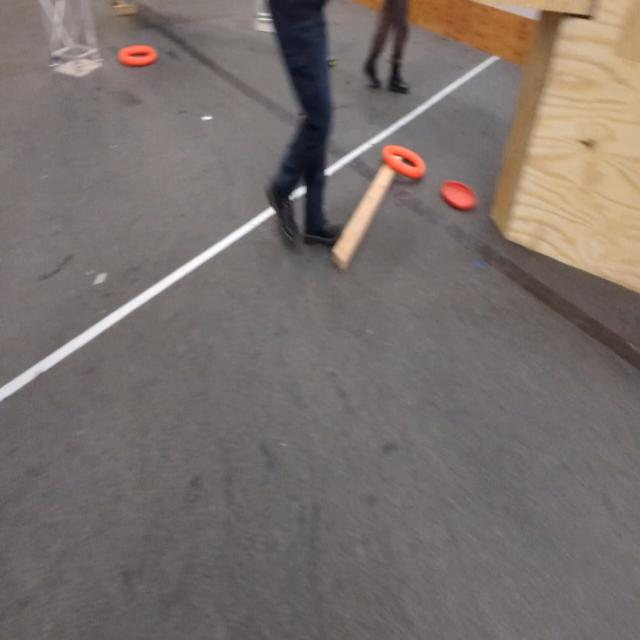note: (382, 145, 425, 182), (116, 45, 158, 70)
